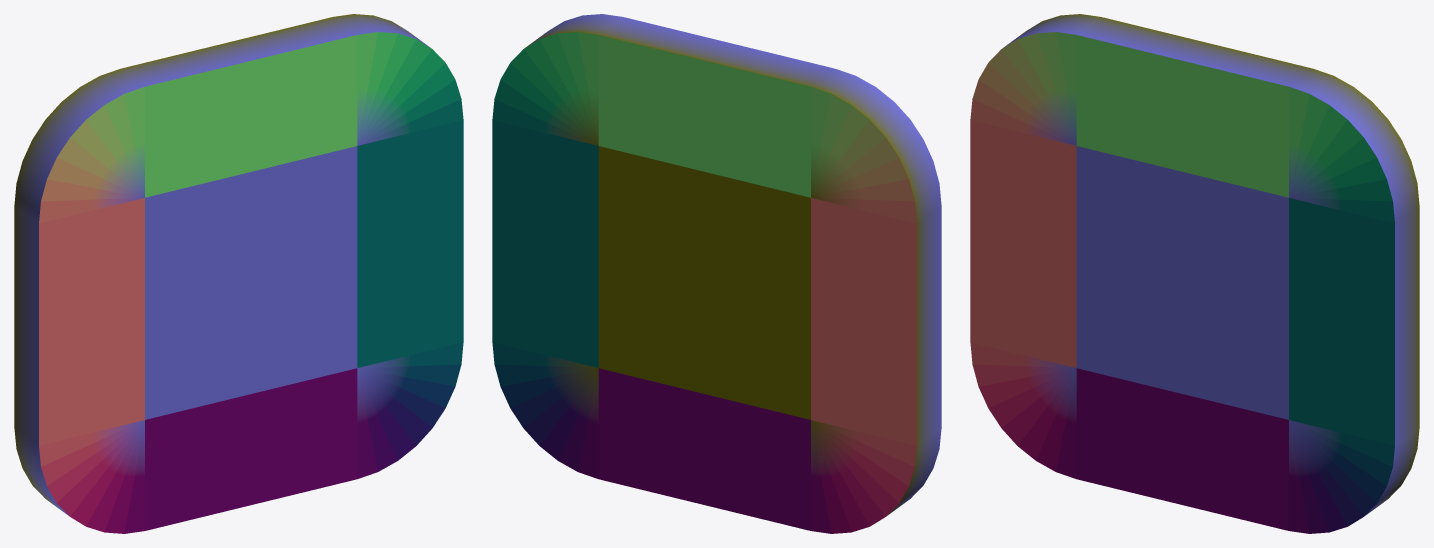
The model's file is thick_8x4.fbx.
3 views of the same model, side by side, from view 1: azimuth 30°, elevation 25°; view 2: azimuth 150°, elevation 25°; view 3: azimuth 330°, elevation 25° (orthographic).
Visible parts, largest first — view 1: beveled_edge; view 2: beveled_edge; view 3: beveled_edge.
Part boxes in pixels (left/top/right/bottom): beveled_edge: left=14, top=14, right=463, bottom=533; beveled_edge: left=492, top=14, right=941, bottom=533; beveled_edge: left=970, top=14, right=1419, bottom=533.
Size of the model in its own units: 1 by 1 by 0.1.
